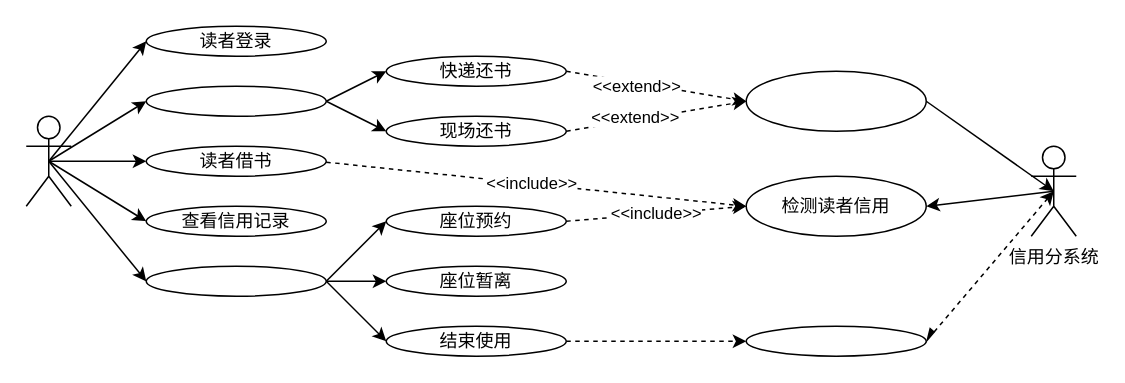
This 1125x383 diagram has some shape labels left out. Here are the shapes that lost their labels. From the top down, the centre of each, then its label:
At point (235, 100): "读者还书".
At point (835, 100): "缴罚金，更新信用分".
At point (48, 160): "读者".
At point (235, 280): "阅览室座位预约".
At point (835, 340): "更新信用分".
